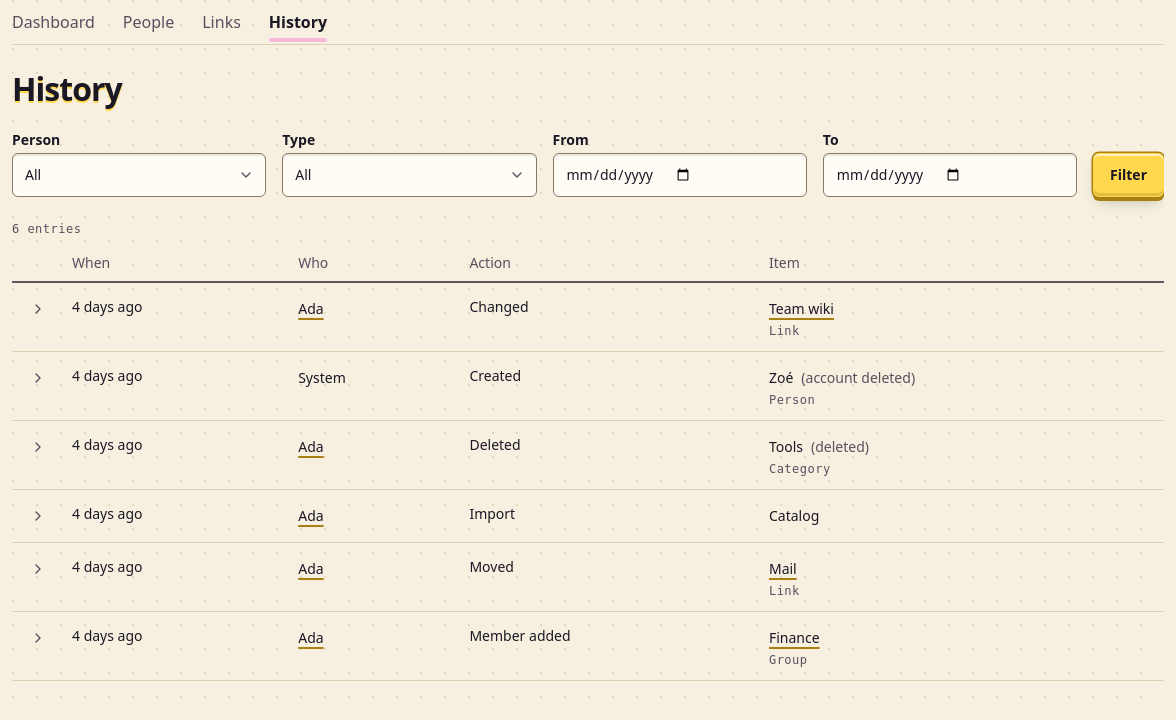
Test: HistoryPage › applies the filters on submit, in the address and in the request, local days turned into instants
Expected: the table is shown, [12,245,1164,681]
Select "System" in the dropdown labelled "Person": (139, 175) [12,153,266,197]
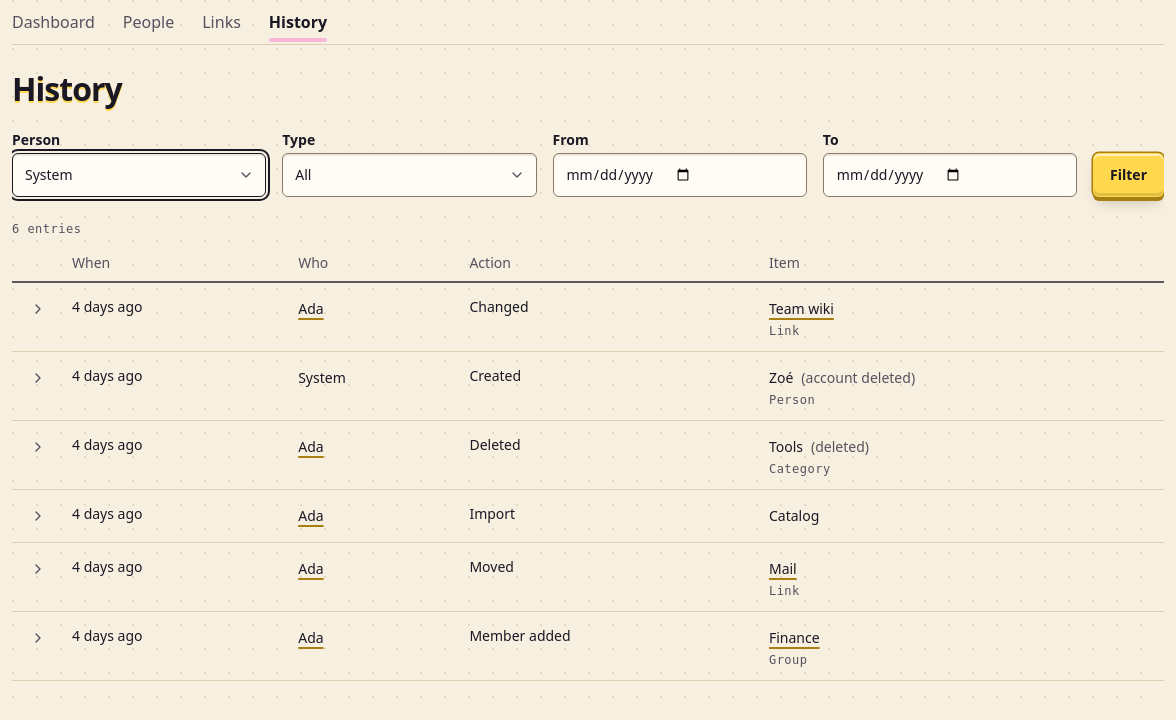
Select "Link" in the dropdown labelled "Type": (409, 175) [282,153,537,197]
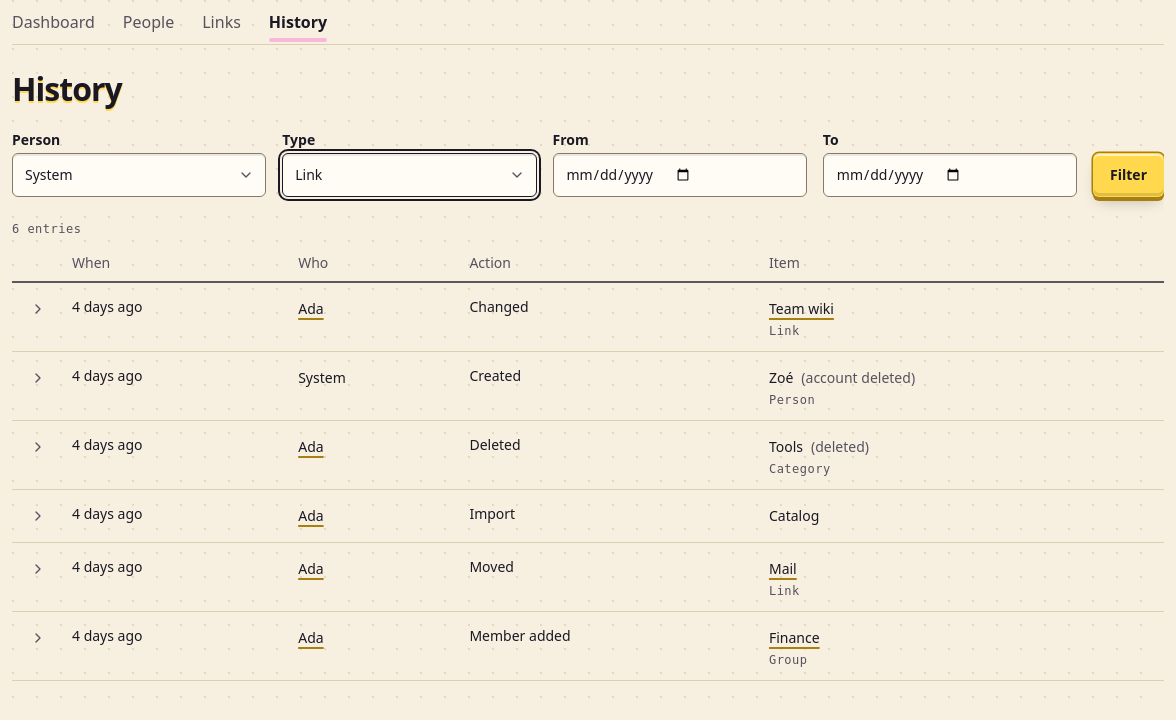
In the date field labelled "From": (680, 175) [552,153,807,197], type "2026-10-01"
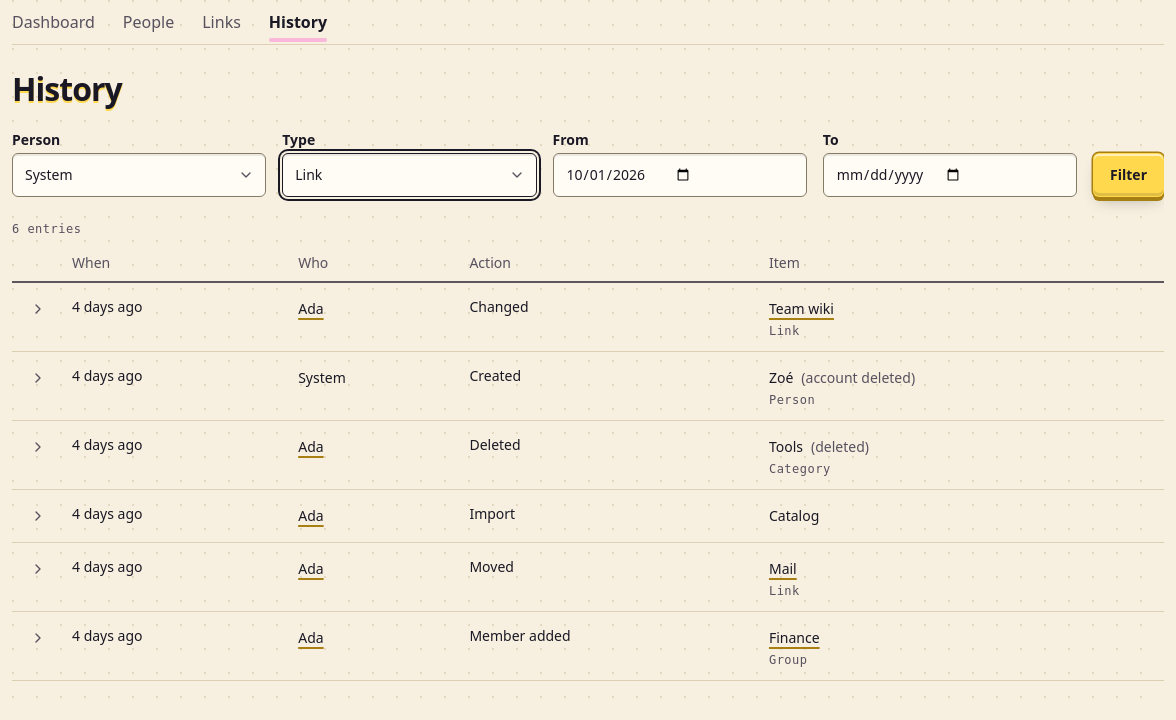
In the date field labelled "To": (950, 175) [823,153,1077,197], type "2026-10-19"
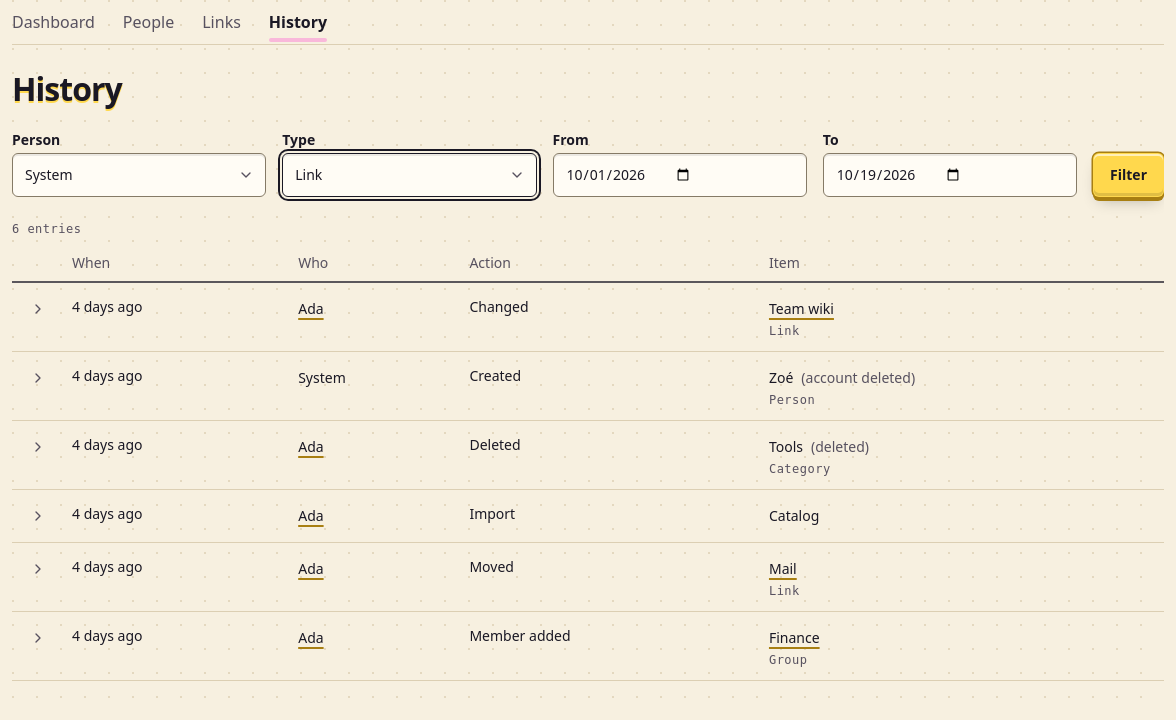
Click the button "Filter": (1129, 175) [1093,153,1164,197]
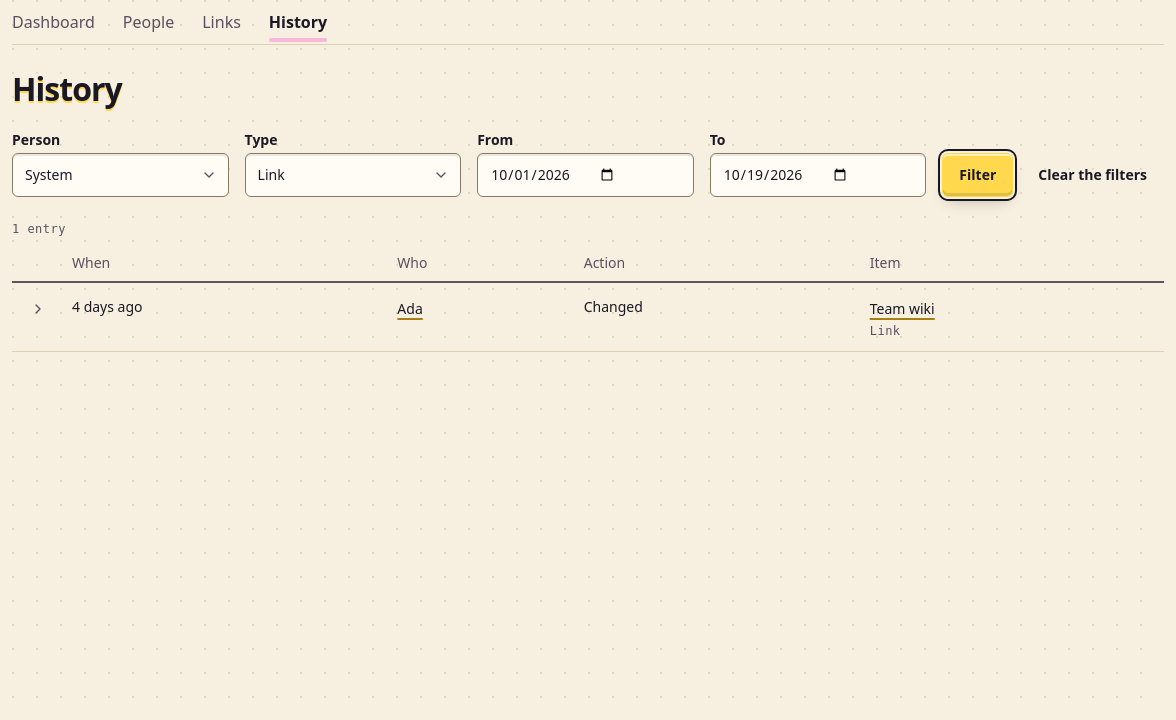
Expected: the message reads "1 entry", [12,222,66,236]
Click the button "Clear the filters": (1093, 175) [1021,153,1164,197]
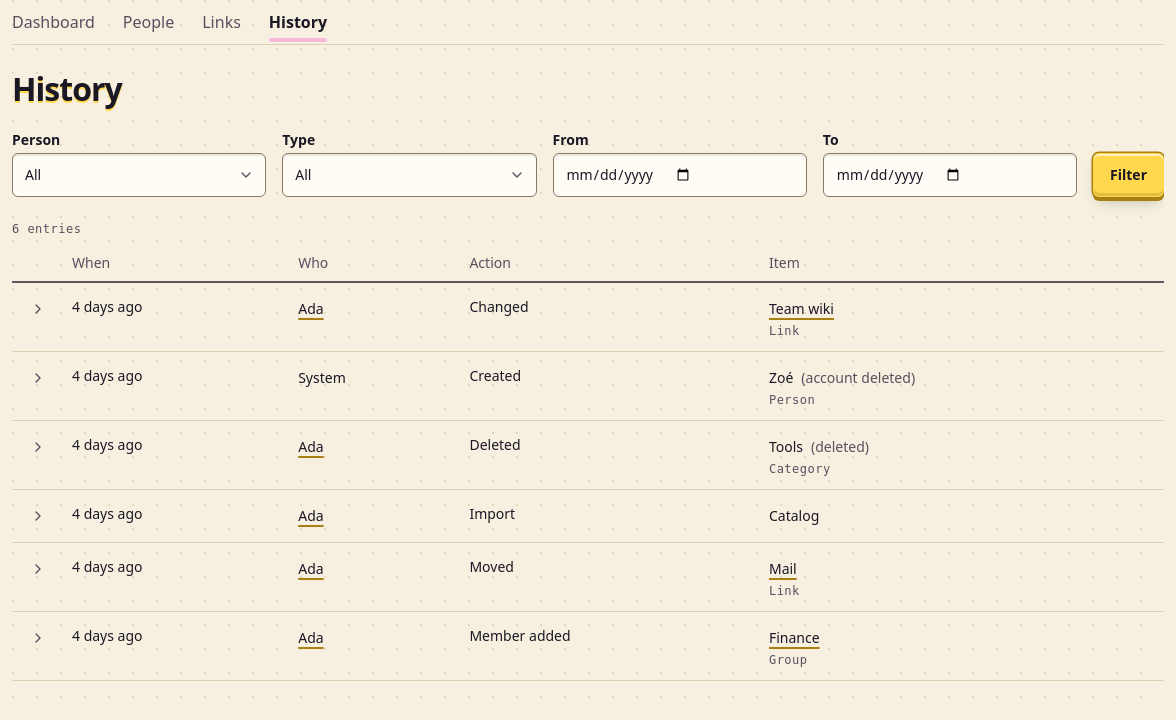
Expected: the message reads "6 entries", [12,222,81,236]
